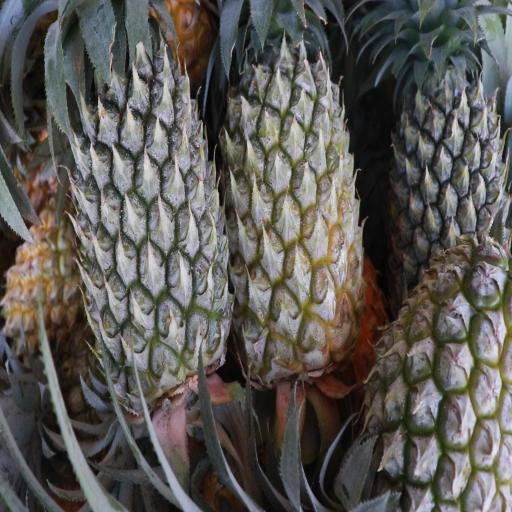------------------------------: (222, 14, 363, 367), (371, 243, 512, 512)
Pineapple - v8 v1: (0, 204, 80, 355)
